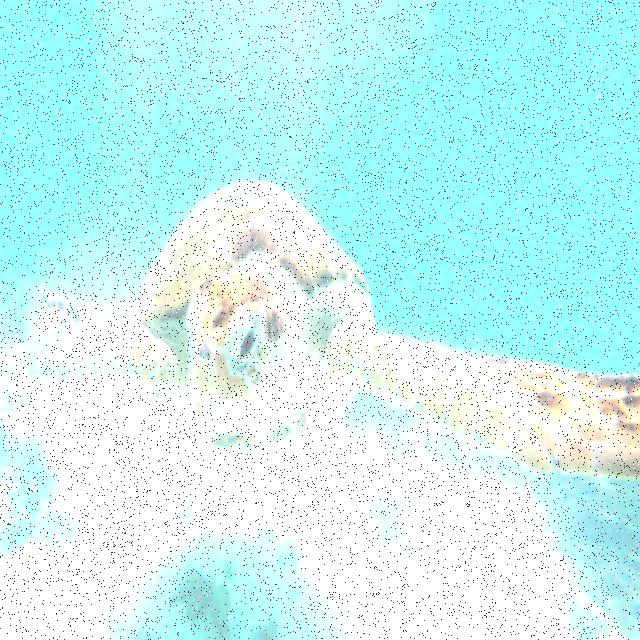tortoise: (180, 185, 640, 481)
